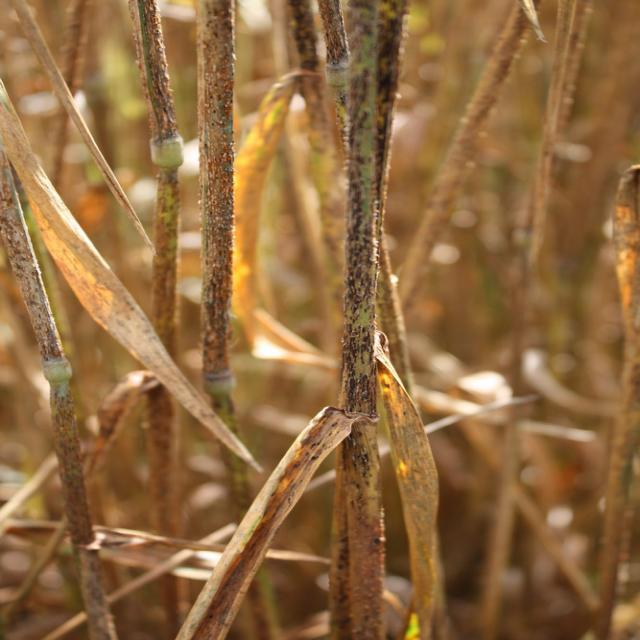wheat-stemrust: (176, 0, 438, 640), (0, 100, 264, 475), (0, 149, 118, 640), (126, 0, 183, 359), (192, 0, 237, 417)
